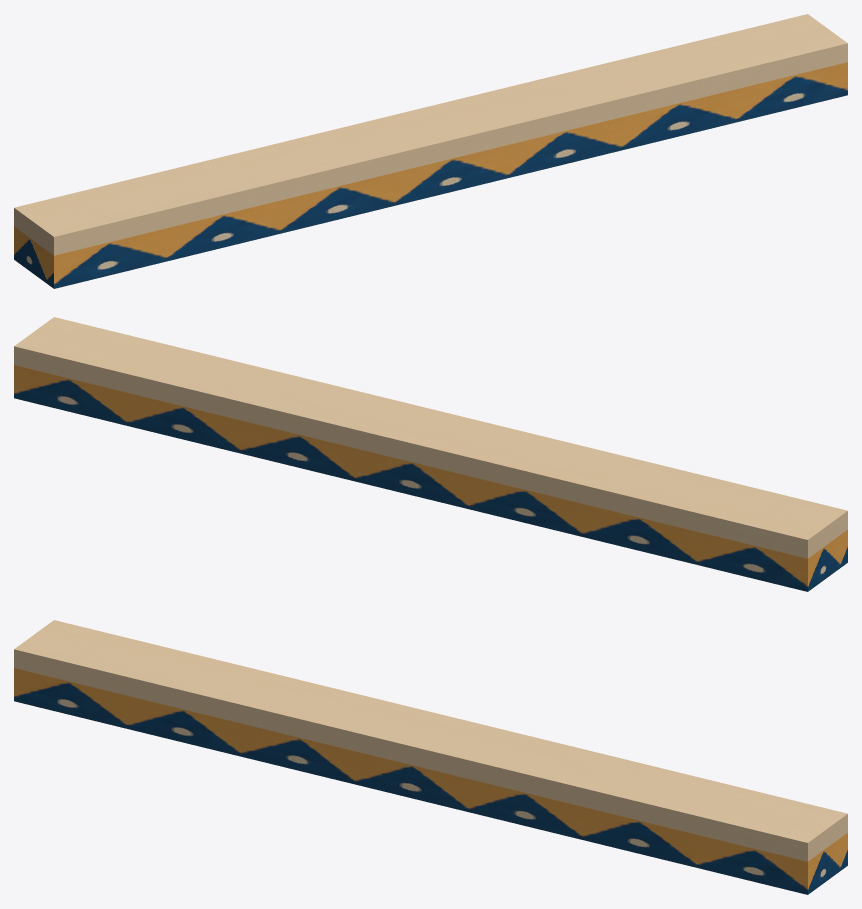
Rendered from rc_wa_wallcap_8m.glb.
The picture shows the model from 3 angles, top to bottom: view 1: azimuth 30°, elevation 25°; view 2: azimuth 150°, elevation 25°; view 3: azimuth 330°, elevation 25°; orthographic projection.
Visible parts, largest first — view 1: SM_RC_WA_WallTopCap_8m; view 2: SM_RC_WA_WallTopCap_8m; view 3: SM_RC_WA_WallTopCap_8m.
Boxes of the visible parts, x1,y1,x2,y2 form: SM_RC_WA_WallTopCap_8m: (14, 14, 847, 288); SM_RC_WA_WallTopCap_8m: (14, 317, 847, 591); SM_RC_WA_WallTopCap_8m: (14, 620, 847, 894).
Size of the model in its own units: 8 by 0.5 by 0.7.
1 material, 1 textured.
